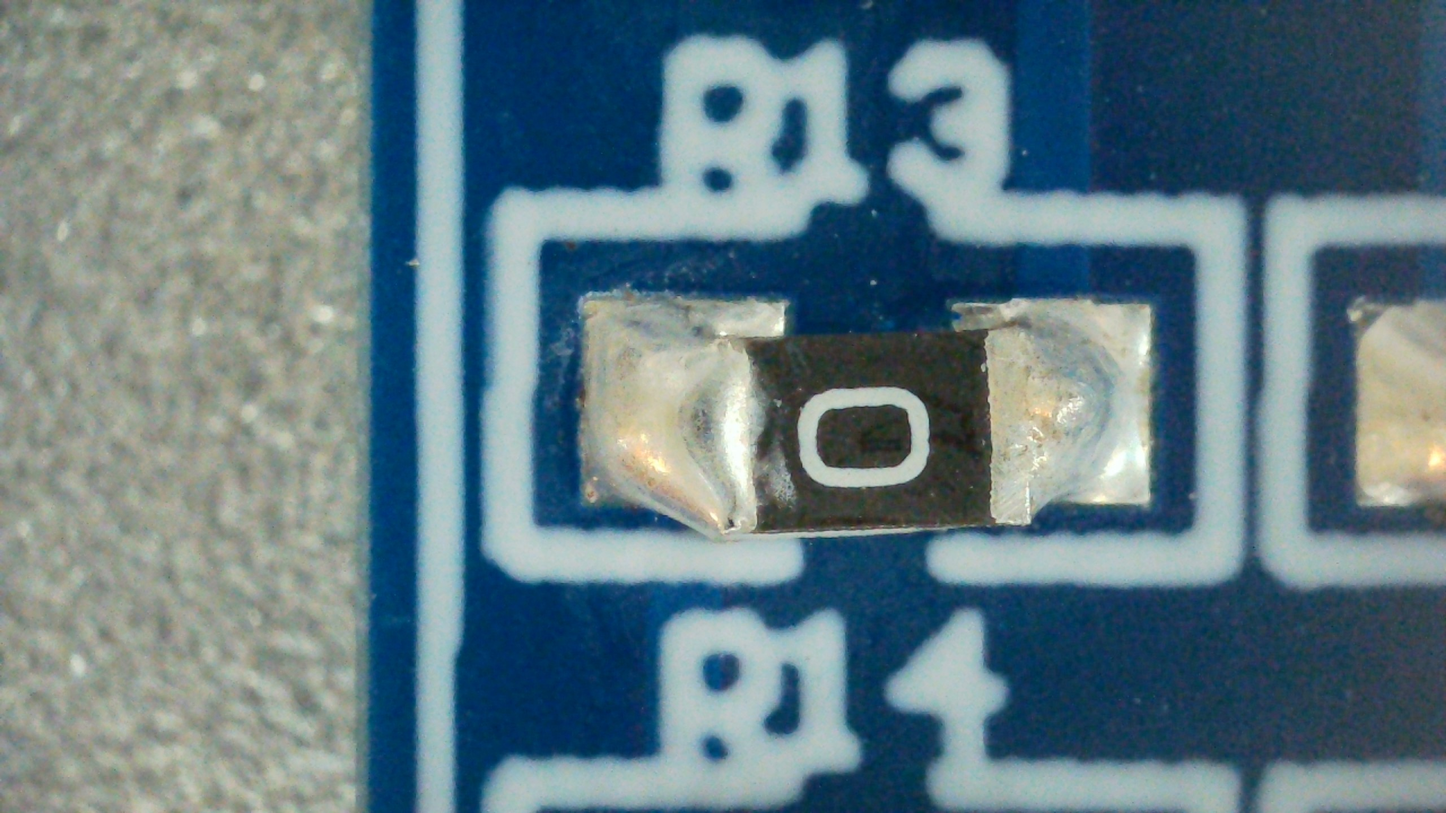NG: (582, 297, 1151, 537)
